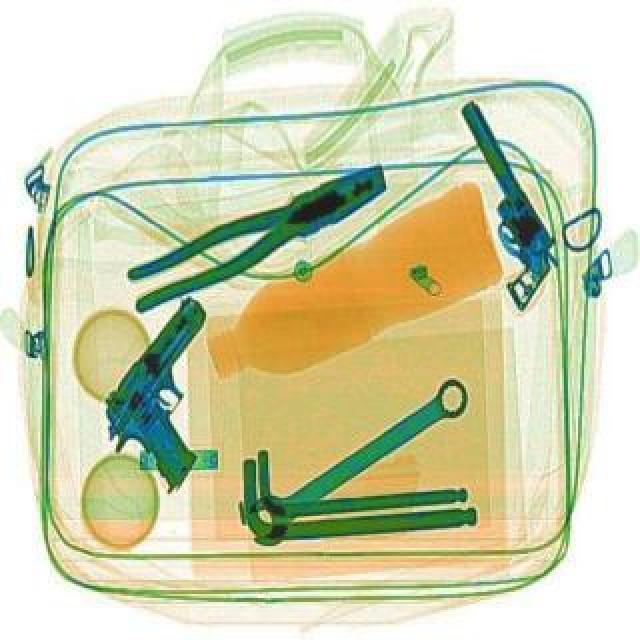gun: (74, 286, 278, 494), (422, 94, 578, 308)
scissors: (232, 368, 484, 548)
wrench: (114, 156, 398, 314)
